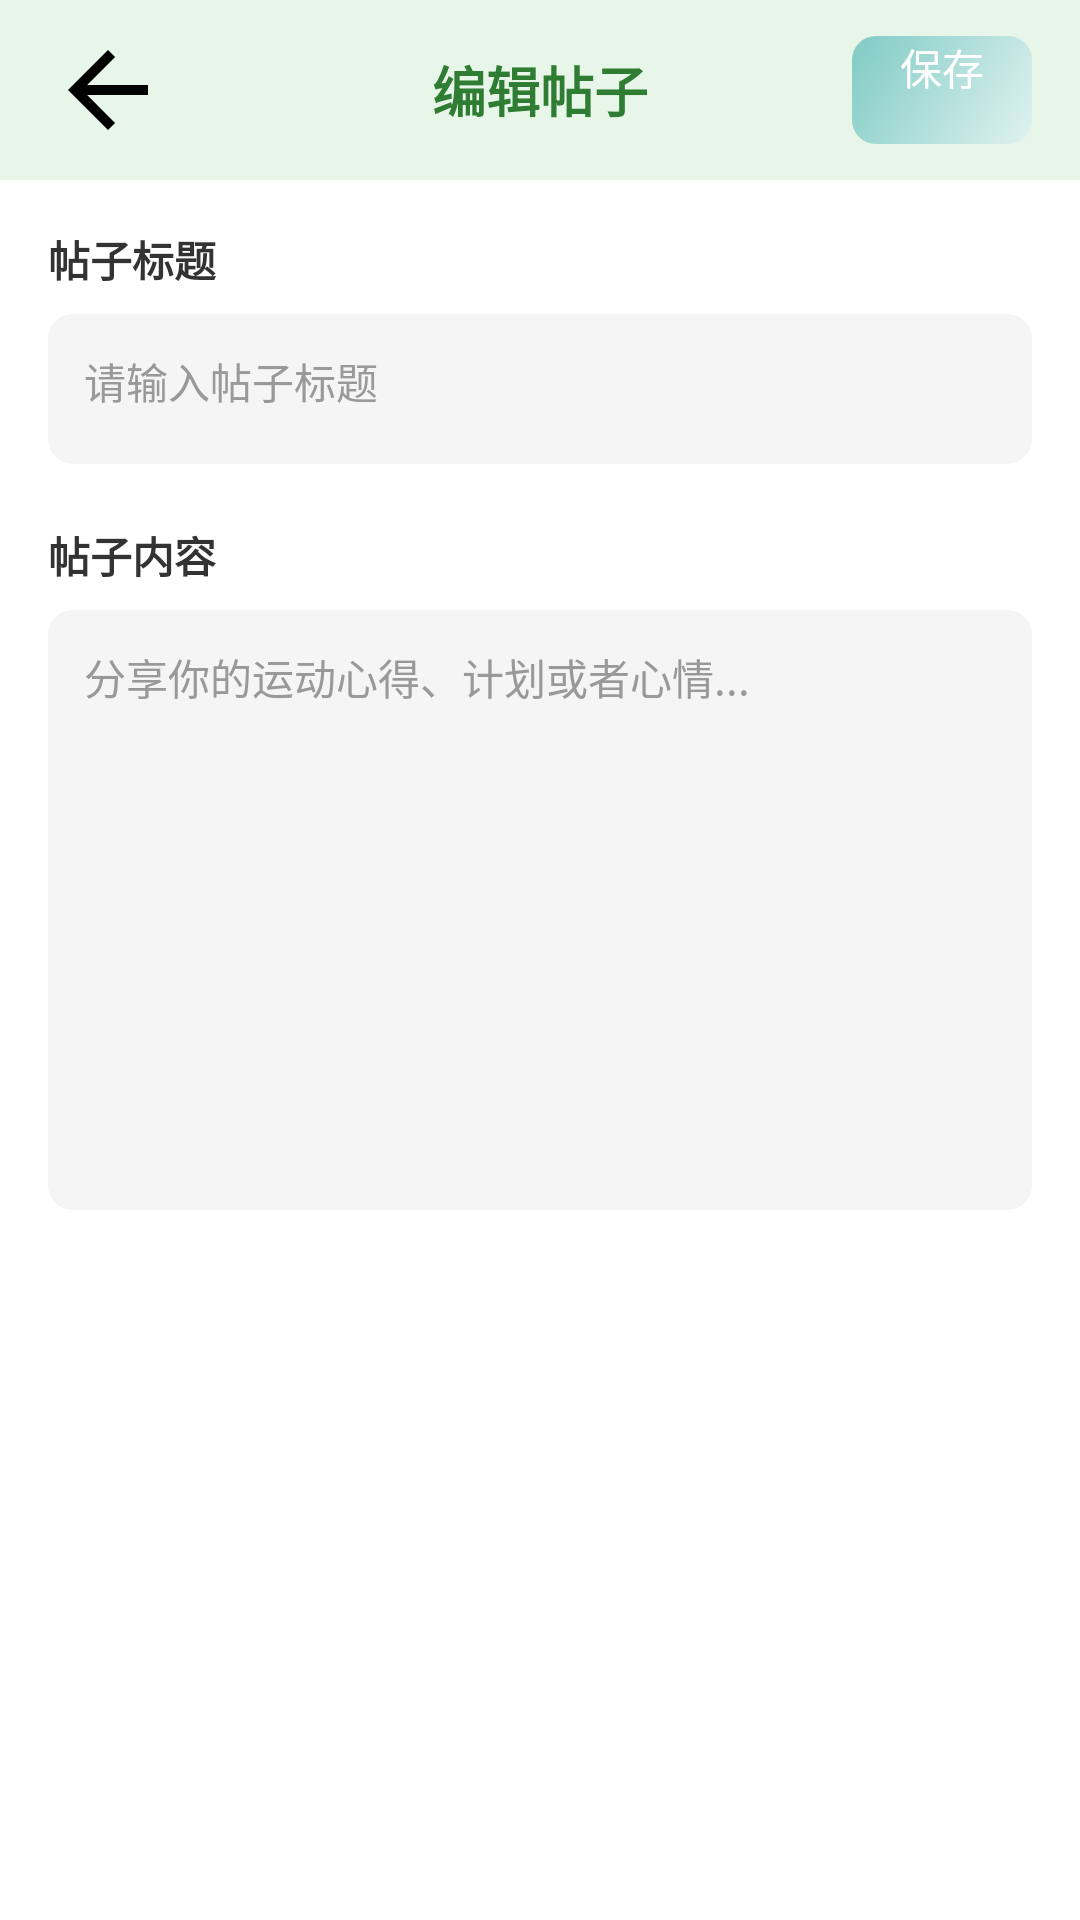

Screen size 1080w x 1920h. Icon name, then its box in pixels as box(x1, y1, x2, y2):
arrow back: box(68, 50, 148, 130)
